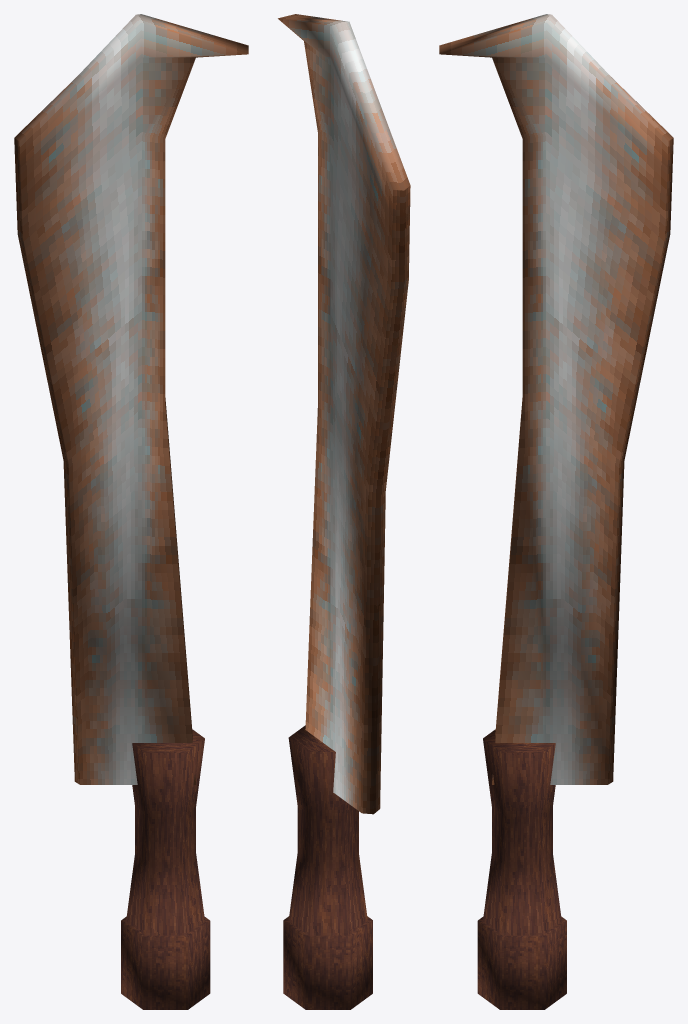
The model's file is machete.glb.
The picture shows the model from 3 angles, left to right: view 1: azimuth 90°, elevation 25°; view 2: azimuth 210°, elevation 25°; view 3: azimuth 270°, elevation 25°; orthographic projection.
Parts seen in each view (by area): view 1: Cylinder; view 2: Cylinder; view 3: Cylinder.
Part boxes in pixels (left/top/right/bottom): Cylinder: left=14, top=14, right=248, bottom=1009; Cylinder: left=278, top=14, right=410, bottom=1009; Cylinder: left=439, top=14, right=673, bottom=1009.
Bounding box in the file's own units: 0.0696 × 0.9715 × 0.2109.
2 materials, 2 textured.
